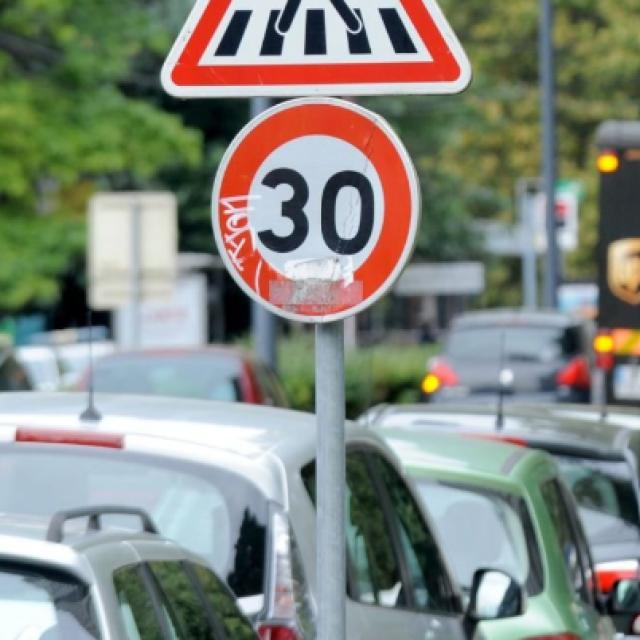Speed limit 30: (209, 95, 423, 325)
